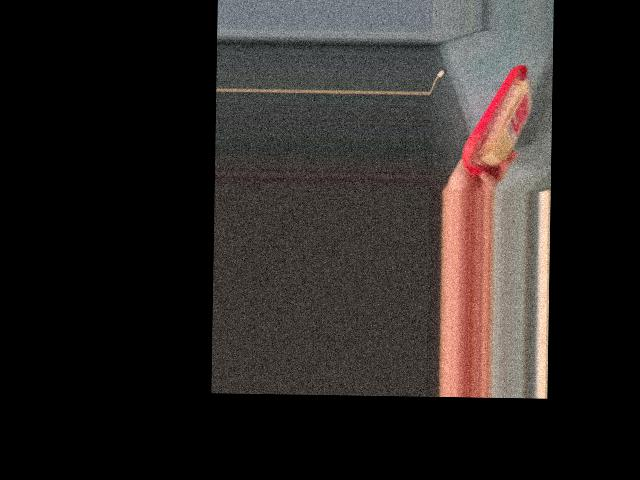cheese: (458, 62, 535, 180)
